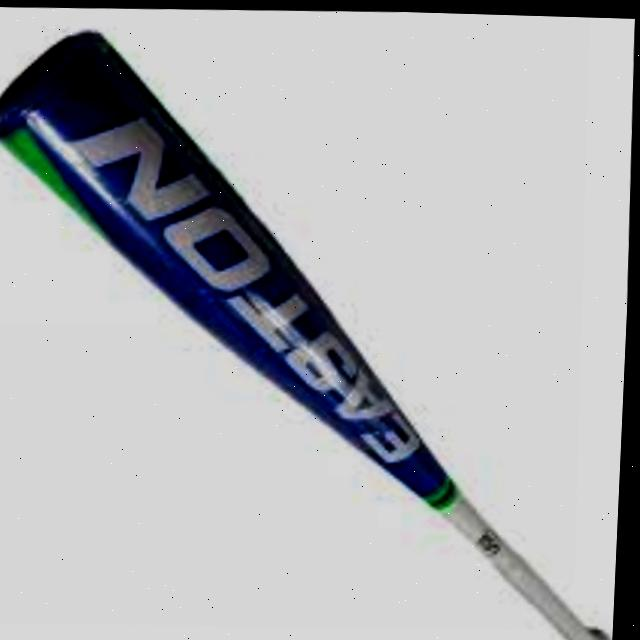baseball bat: (0, 19, 639, 640)
